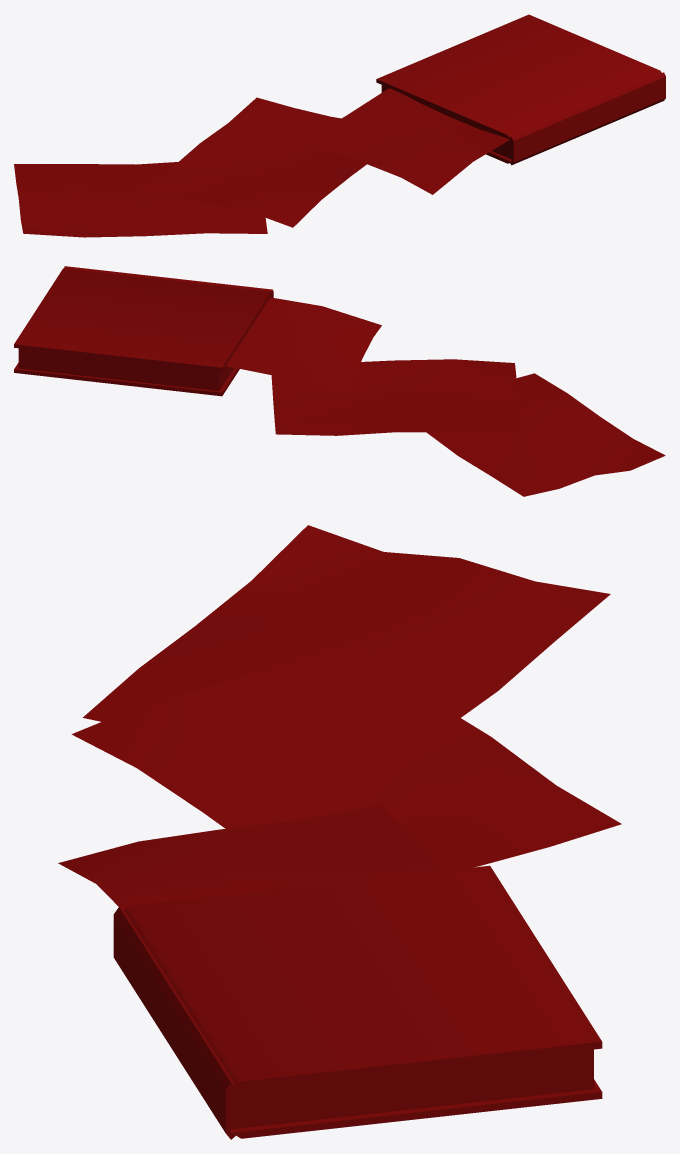
The model's file is HalloweenRoomA_BookpropA.fbx.
3 renders of one model, top to bottom at view 1: azimuth 30°, elevation 25°; view 2: azimuth 150°, elevation 25°; view 3: azimuth 270°, elevation 25°, orthographic. The views are drawn at different scales.
Visible parts, largest first — view 1: HalloweenRoomA_BookpropA; view 2: HalloweenRoomA_BookpropA; view 3: HalloweenRoomA_BookpropA.
Boxes of the visible parts, box(x1,y1,x2,y2) form: HalloweenRoomA_BookpropA: box(14, 14, 665, 237); HalloweenRoomA_BookpropA: box(14, 266, 665, 496); HalloweenRoomA_BookpropA: box(58, 525, 621, 1139).
Size of the model in its own units: 72.36 by 3.28 by 28.46.
